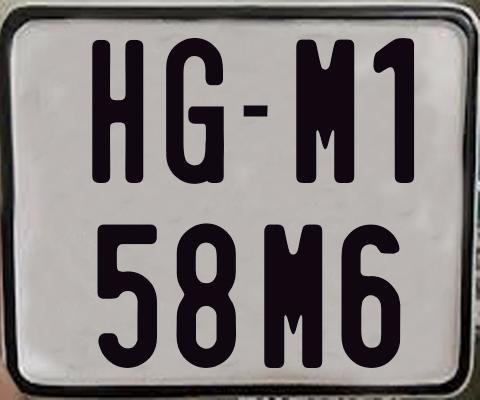1: (372, 38, 415, 189)
5: (94, 221, 158, 367)
6: (339, 221, 403, 369)
8: (173, 223, 236, 371)
G: (164, 35, 228, 184)
H: (90, 38, 142, 186)
M: (263, 221, 323, 370), (294, 36, 353, 180)
